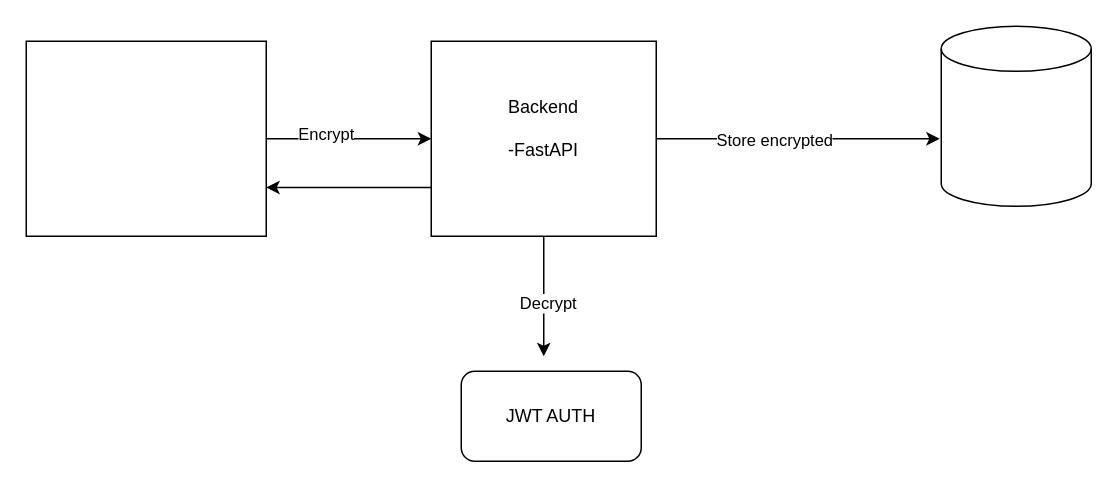
The diagram is 1118 pixels wide and 488 high, and some of its shapes have lost their labels. The shapes that lost their labels are listed below. From the top down, each one's centre as x and y in pixels, then its label:
the point at 1015,115: Database -PostgreSQL
the point at 145,138: Frontend - React - CryptoJS
